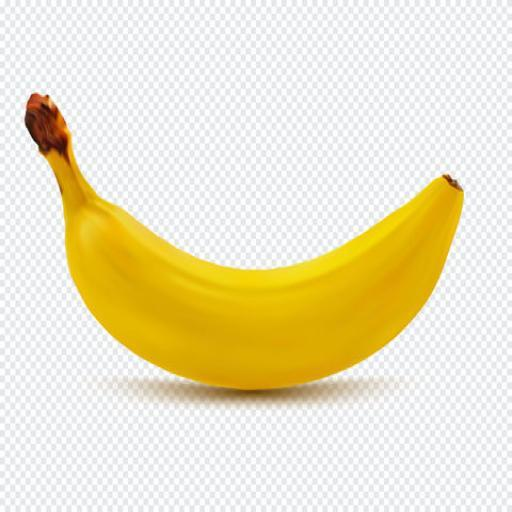banana: (26, 94, 462, 389)
